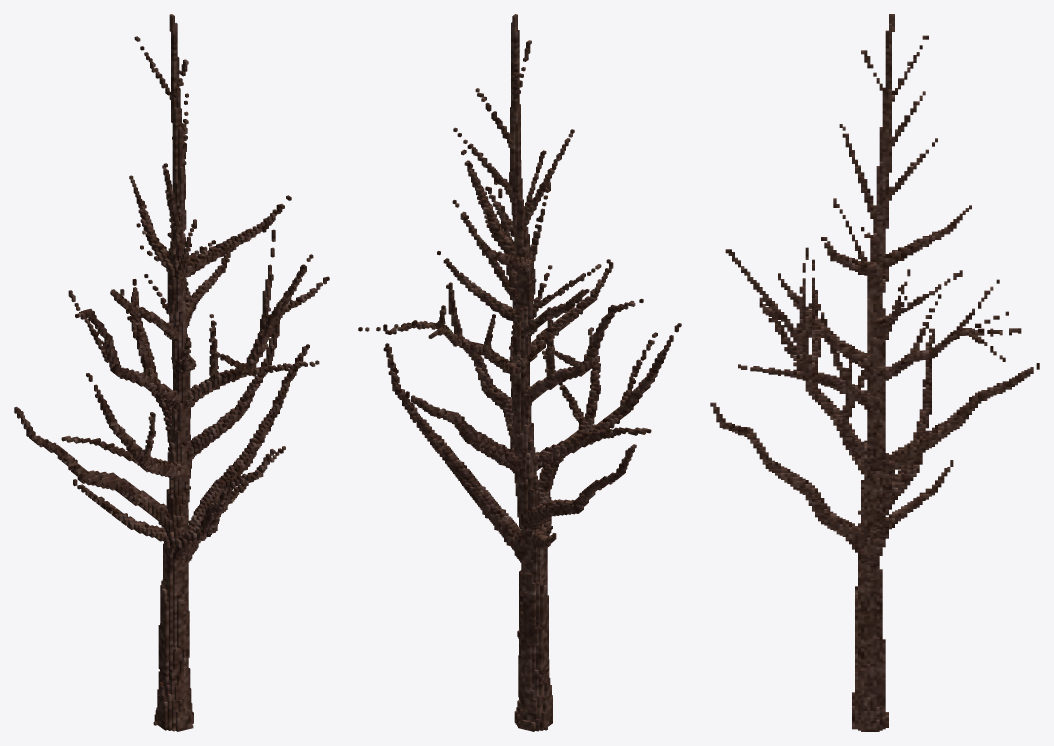
File: SM_TreeNatureTreeOnly.fbx
The picture shows the model from 3 angles, left to right: view 1: azimuth 30°, elevation 25°; view 2: azimuth 150°, elevation 25°; view 3: azimuth 270°, elevation 25°; orthographic projection. The views are drawn at different scales.
Parts seen in each view (by area): view 1: Voxelized_Voxelizer_1; view 2: Voxelized_Voxelizer_1; view 3: Voxelized_Voxelizer_1.
Boxes of the visible parts, x1=… form: Voxelized_Voxelizer_1: x1=14, y1=14, x2=329, y2=731; Voxelized_Voxelizer_1: x1=358, y1=14, x2=681, y2=731; Voxelized_Voxelizer_1: x1=710, y1=14, x2=1039, y2=731.
Size of the model in its own units: 103 by 256 by 107.
